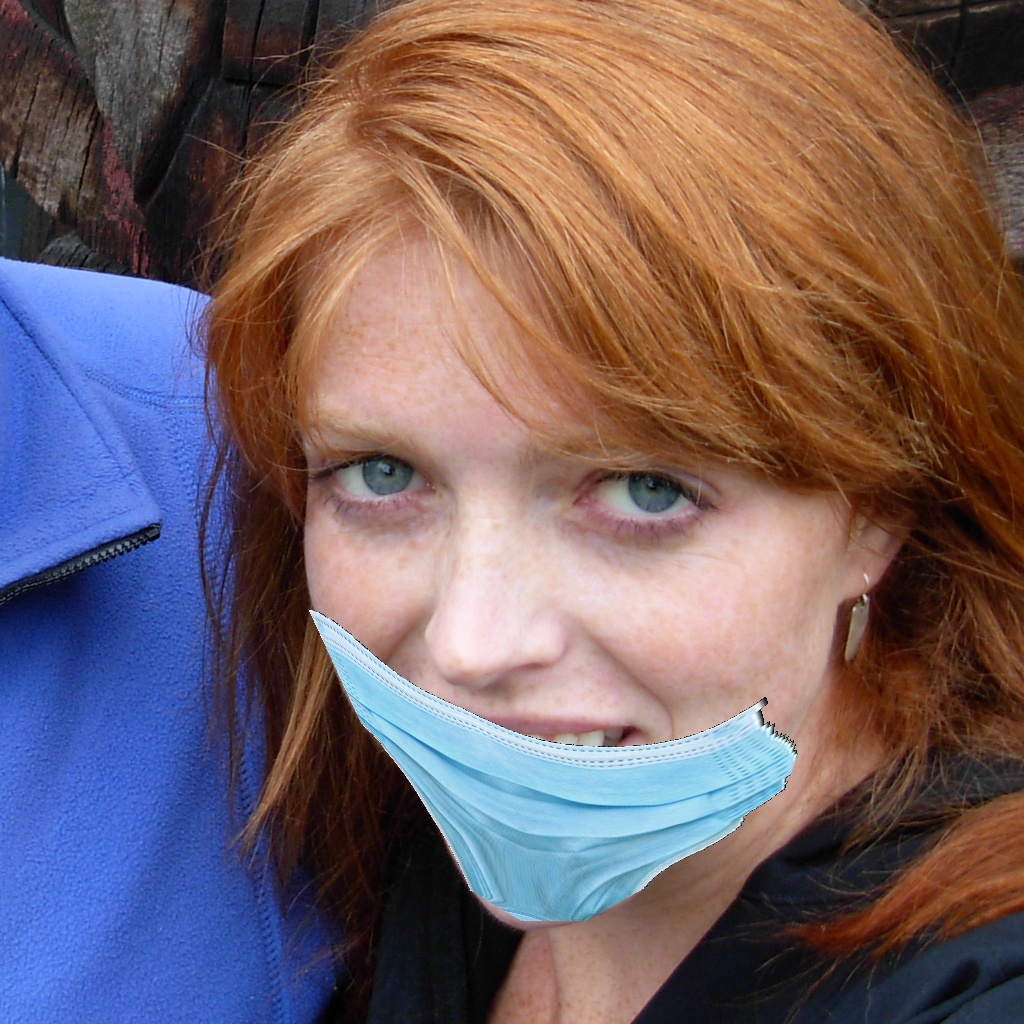Mask_Mouth_Chin: (300, 382, 863, 933)
